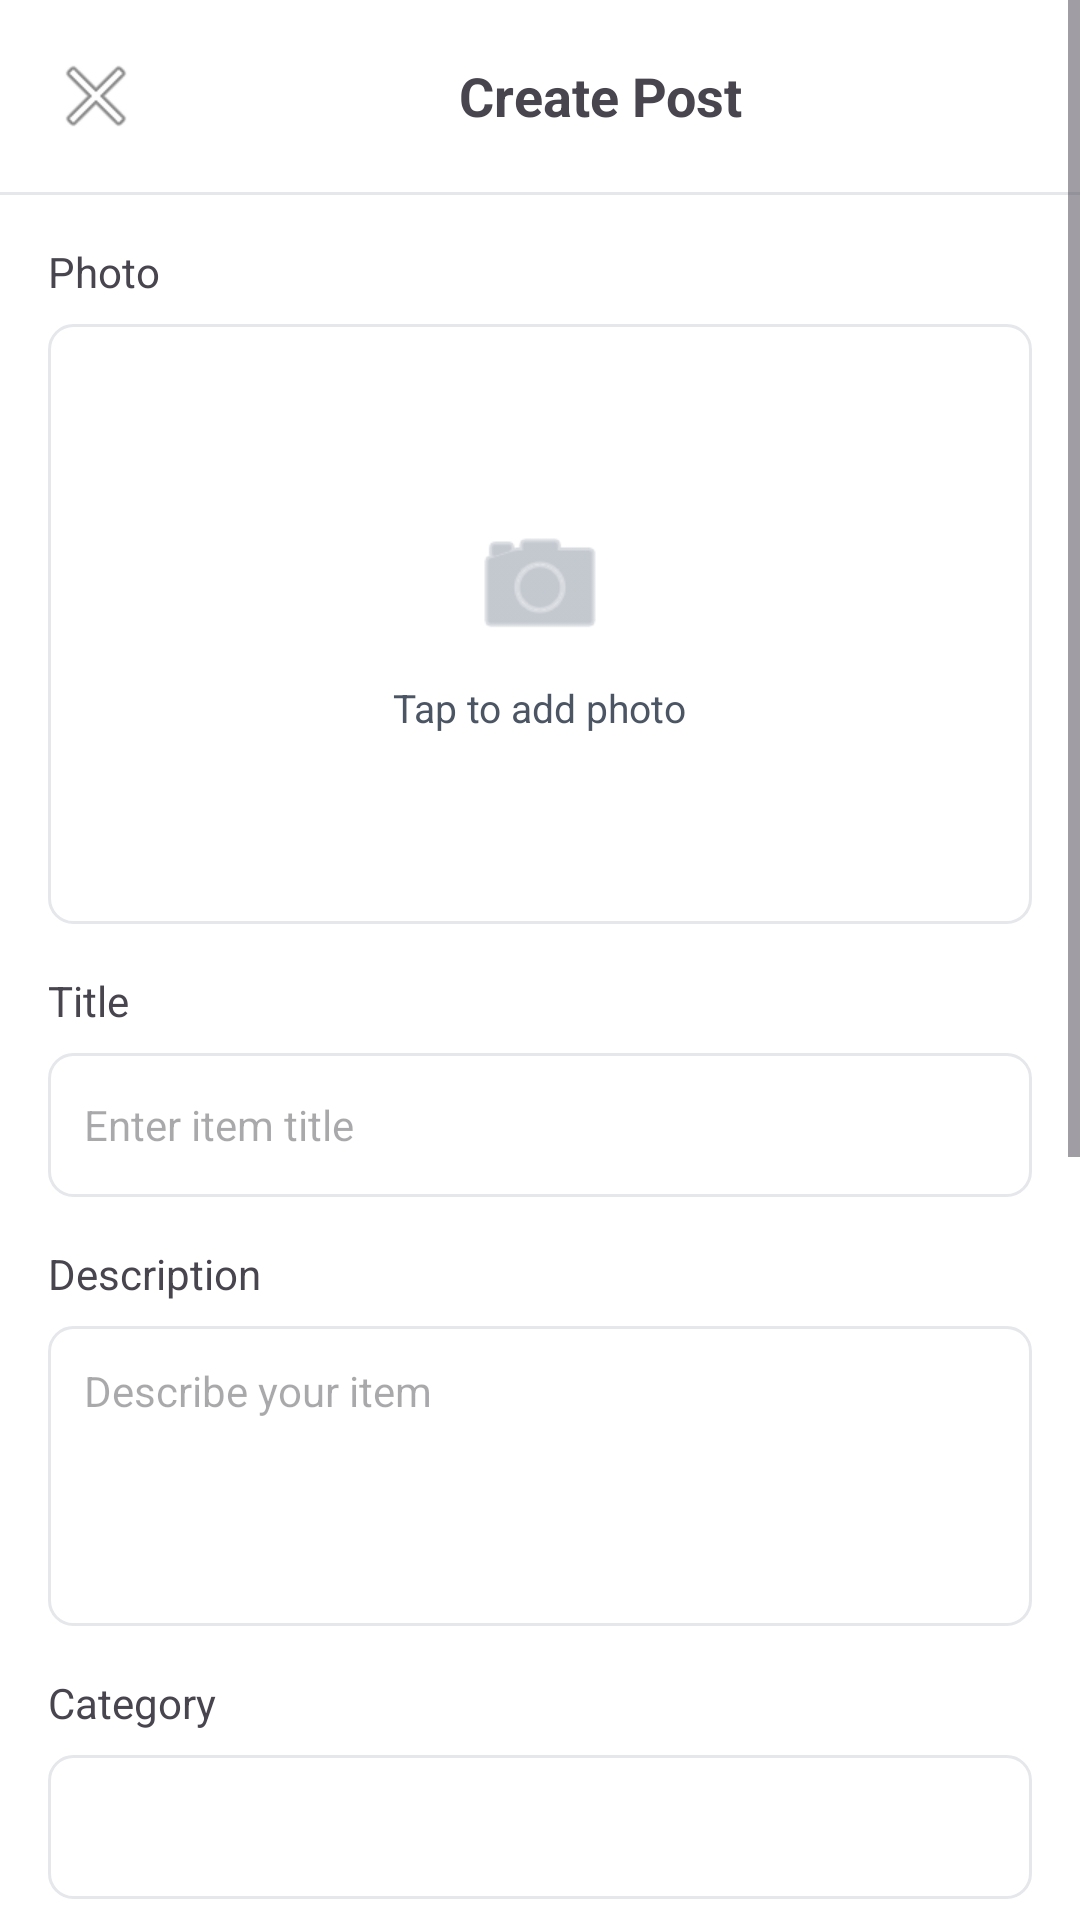

Screen size 1080 × 1920. Icon name, then its center in pixels as [x,y]:
camera: [540,582]
close clear cancel: [96,96]
